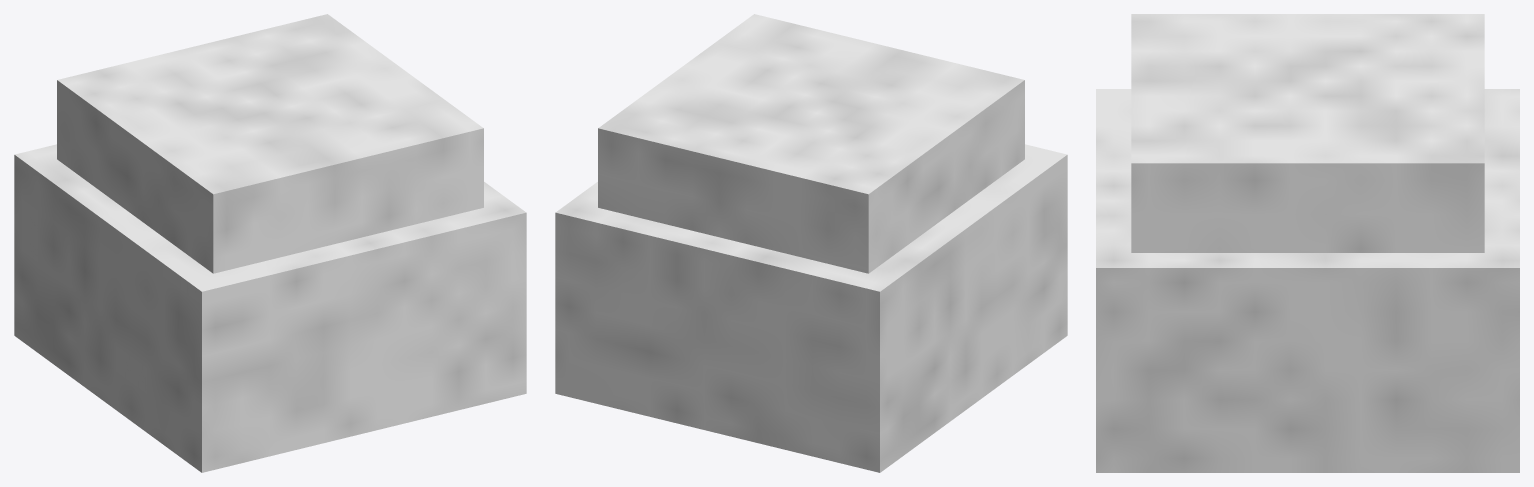
Rendered from Button.fbx.
3 views of the same model, side by side, from view 1: azimuth 30°, elevation 25°; view 2: azimuth 150°, elevation 25°; view 3: azimuth 270°, elevation 25° (orthographic). The views are drawn at different scales.
Visible parts, largest first — view 1: pCube26, pCube25; view 2: pCube26, pCube25; view 3: pCube26, pCube25.
Boxes of the visible parts, x1,y1,x2,y2 form: pCube26: (14,144,526,472); pCube25: (57,14,483,273); pCube26: (555,144,1067,472); pCube25: (598,14,1024,273); pCube26: (1096,89,1519,472); pCube25: (1131,14,1484,252).
Bounding box in the file's own units: 0.75 × 0.5754 × 0.75.
